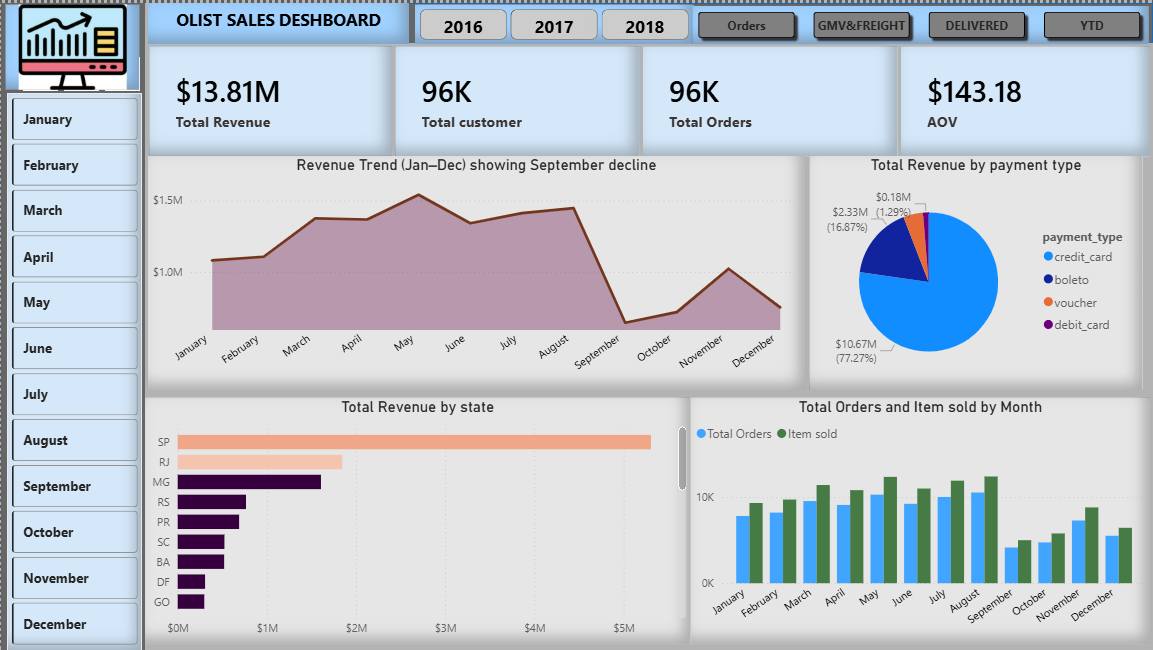

What the dashboard file says about the page in this screenshot:
{"tool":"powerbi","page":{"name":"Revenue ","canvas":[1280,720],"ordinal":1},"visuals":[{"type":"shape","box":[0,0,160,720],"z":0},{"type":"shape","box":[167.3,0,1113.5,44.2],"z":1000},{"type":"advancedSlicerVisual","fields":{"Values":["custom date.Date.Variation.Date Hierarchy.Month"]},"box":[6,100,150,620],"z":2000},{"type":"advancedSlicerVisual","fields":{"Values":["custom date.Date.Variation.Date Hierarchy.Year"]},"box":[460,2,310,44],"z":3000},{"type":"cardVisual","fields":{"Data":["public olist_master_cleaned.Total Revenue"]},"box":[164.4,48.3,269.4,121.1],"z":4000},{"type":"cardVisual","fields":{"Data":["public olist_master_cleaned.Total_customer"]},"box":[437.8,48.3,270.6,121.7],"z":5000},{"type":"cardVisual","fields":{"Data":["public olist_master_cleaned.Total Orders"]},"box":[712.8,48.3,282.8,121.7],"z":6000},{"type":"cardVisual","fields":{"Data":["public olist_master_cleaned.AOV"]},"box":[999.4,48.3,276.7,121.7],"z":7000},{"type":"barChart","title":"Total Revenue by state","fields":{"Category":["public olist_master_cleaned.customer_state"],"Y":["public olist_master_cleaned.Total Revenue"]},"box":[160,438,606,274],"z":8000},{"type":"lineChart","title":"Revenue Trend (Jan–Dec) showing September decline","fields":{"Y":["public olist_master_cleaned.Total Revenue"],"Category":["custom date.Date.Variation.Date Hierarchy.Month"]},"box":[164,170,730,260],"z":9000},{"type":"pieChart","title":"Total Revenue by payment type","fields":{"Y":["public olist_master_cleaned.Total Revenue"],"Category":["public olist_master_cleaned.payment_type"]},"box":[898,170,370,260],"z":10000},{"type":"lineClusteredColumnComboChart","fields":{"Y":["public olist_master_cleaned.Total Orders","public olist_master_cleaned.Item sold"],"Category":["custom date.Date.Variation.Date Hierarchy.Month"]},"box":[766,438,510,274],"z":12000},{"type":"pageNavigator","box":[769.1,3.2,506.8,42.1],"z":13000},{"type":"textbox","box":[164,0,290,46],"z":14000},{"type":"image","box":[5.6,1.1,148.9,94.4],"z":15000}]}

Visuals, with their boxes in screenshot pixels (x1, y1, x2, y2), scaled from the page's 1280x720 canvas onto the 1153x650 screenshot:
shape: (0,0,144,649)
shape: (151,0,1152,40)
advancedSlicerVisual - custom date.Date.Variation.Date Hierarchy.Month: (5,90,141,649)
advancedSlicerVisual - custom date.Date.Variation.Date Hierarchy.Year: (414,2,694,42)
cardVisual - public olist_master_cleaned.Total Revenue: (148,44,391,153)
cardVisual - public olist_master_cleaned.Total_customer: (394,44,638,153)
cardVisual - public olist_master_cleaned.Total Orders: (642,44,897,153)
cardVisual - public olist_master_cleaned.AOV: (900,44,1149,153)
"Total Revenue by state" barChart: (144,395,690,643)
"Revenue Trend (Jan–Dec) showing September decline" lineChart: (148,153,805,388)
"Total Revenue by payment type" pieChart: (809,153,1142,388)
lineClusteredColumnComboChart - public olist_master_cleaned.Total Orders x public olist_master_cleaned.Item sold: (690,395,1149,643)
pageNavigator: (693,3,1149,41)
textbox: (148,0,409,42)
image: (5,1,139,86)
